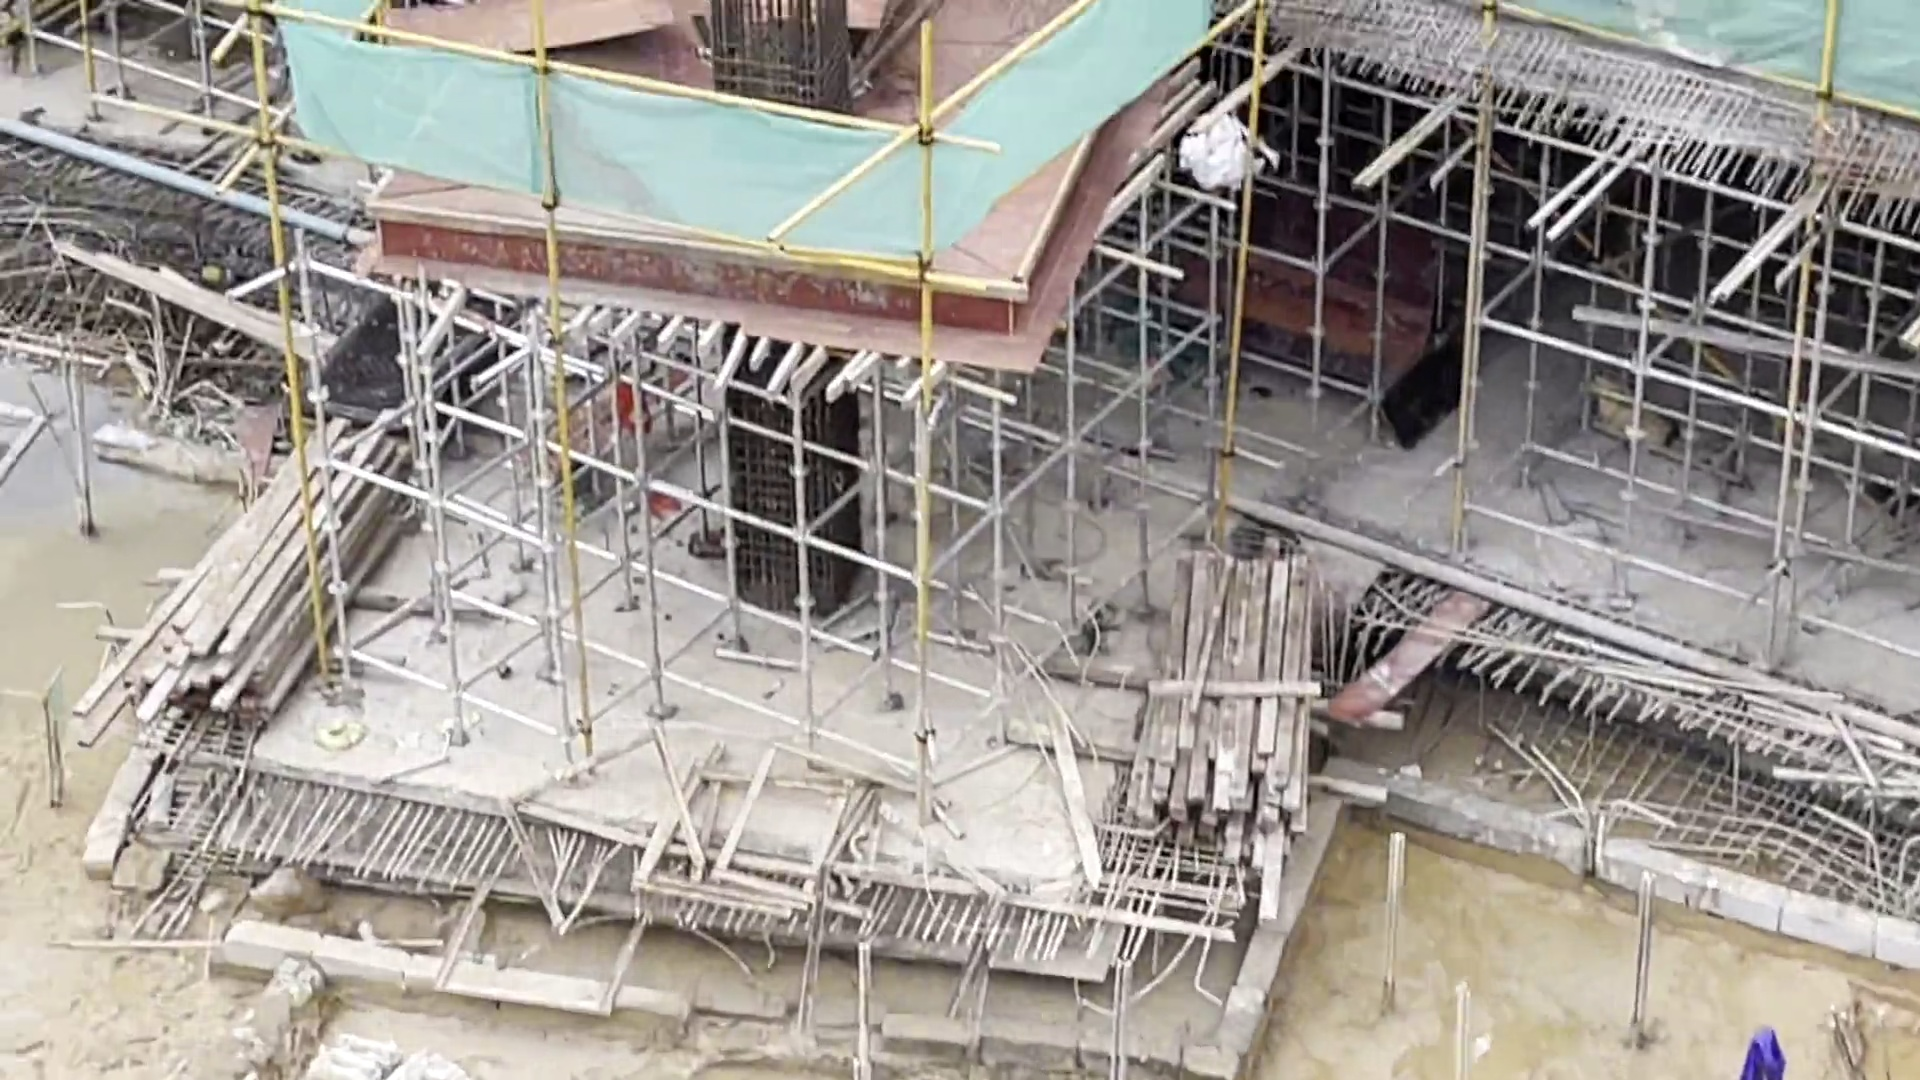wood: (86, 414, 415, 738), (1129, 554, 1317, 845)
